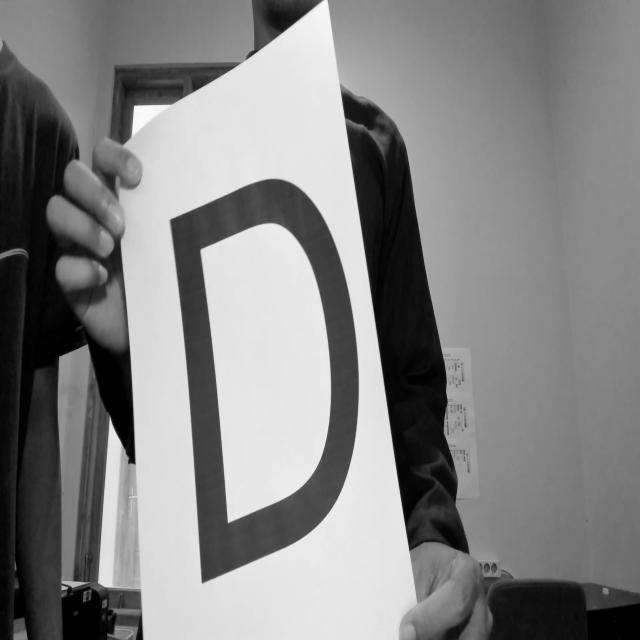d: (159, 163, 369, 597)
